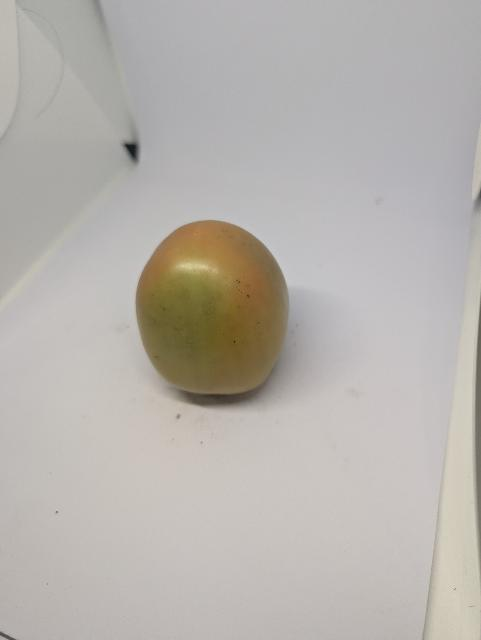breaker: (136, 221, 289, 394)
